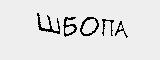А: (114, 19, 129, 41)
Б: (61, 15, 77, 37)
О: (80, 15, 98, 37)
П: (101, 19, 115, 37)
Ш: (35, 12, 60, 34)
